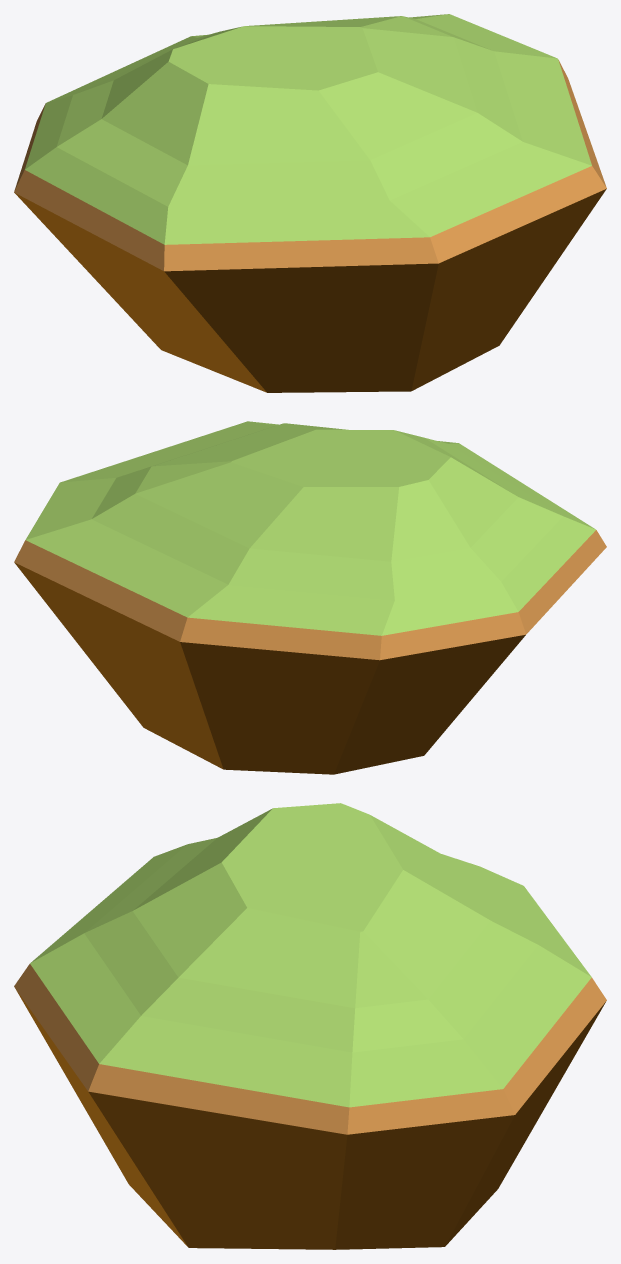
The model's file is island_grass_2.glb.
3 renders of one model, top to bottom at view 1: azimuth 30°, elevation 25°; view 2: azimuth 150°, elevation 25°; view 3: azimuth 270°, elevation 25°, orthographic. The views are drawn at different scales.
Parts seen in each view (by area): view 1: Cube; view 2: Cube; view 3: Cube.
Boxes of the visible parts, left/top/right/bottom form: Cube: left=14, top=14, right=606, bottom=392; Cube: left=14, top=421, right=606, bottom=774; Cube: left=14, top=803, right=606, bottom=1249.
Bounding box in the file's own units: 3.24 × 1.71 × 2.95.
